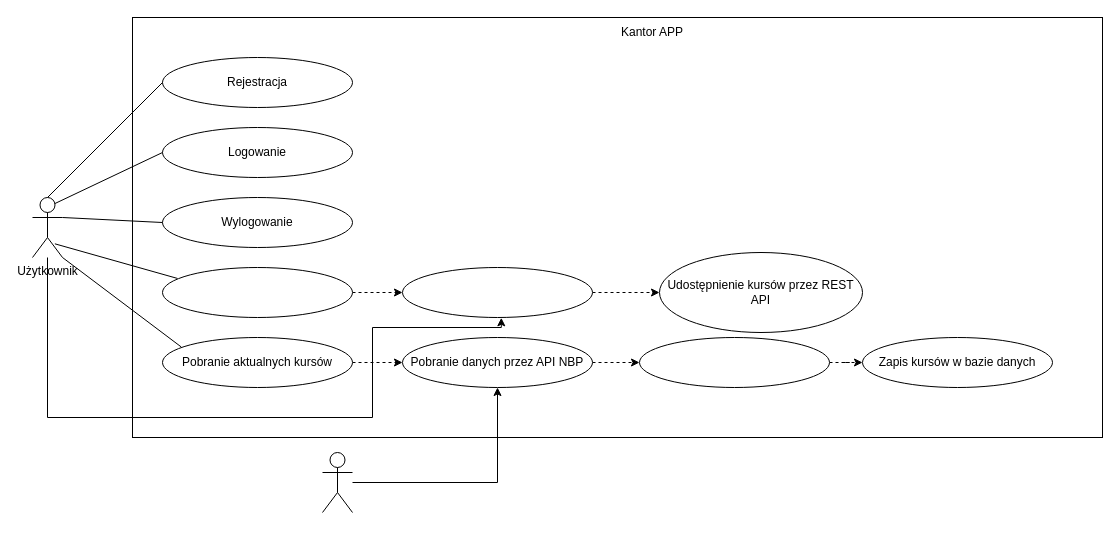
This 1120x551 diagram has some shape labels left out. The centre of each missing label's shape, as x and y in pixels:
API NBP: (x=337, y=482)
Odświerzenie kursów: (x=257, y=292)
Przetworzenie danych kursowych: (x=734, y=362)
Wyświetlenie kursów walut: (x=497, y=292)
